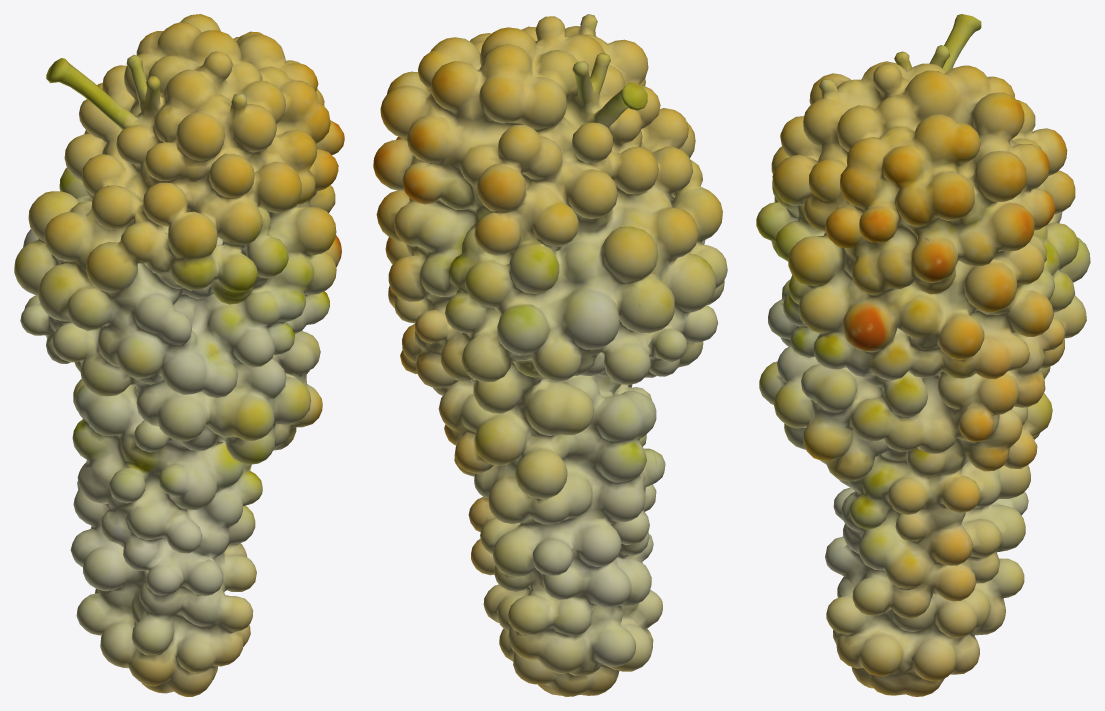
3 renders of one model, left to right at view 1: azimuth 30°, elevation 25°; view 2: azimuth 150°, elevation 25°; view 3: azimuth 270°, elevation 25°, orthographic. The views are drawn at different scales.
Parts seen in each view (by area): view 1: material; view 2: material; view 3: material.
Part boxes in pixels (x1,y1,x2,y2): material: [14, 14, 344, 696]; material: [373, 14, 727, 696]; material: [756, 14, 1090, 696].
Size of the model in its own units: 0.9178 by 1.9 by 0.8963.
1 material, 1 textured.
